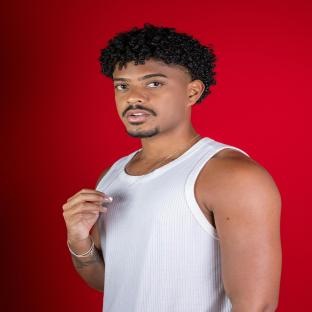Human: (63, 24, 281, 312)
